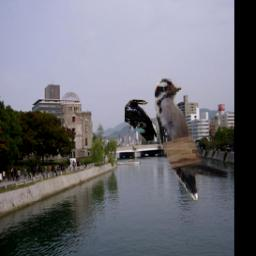Crow: (124, 100, 157, 142)
Woodpecker: (155, 80, 228, 201)
